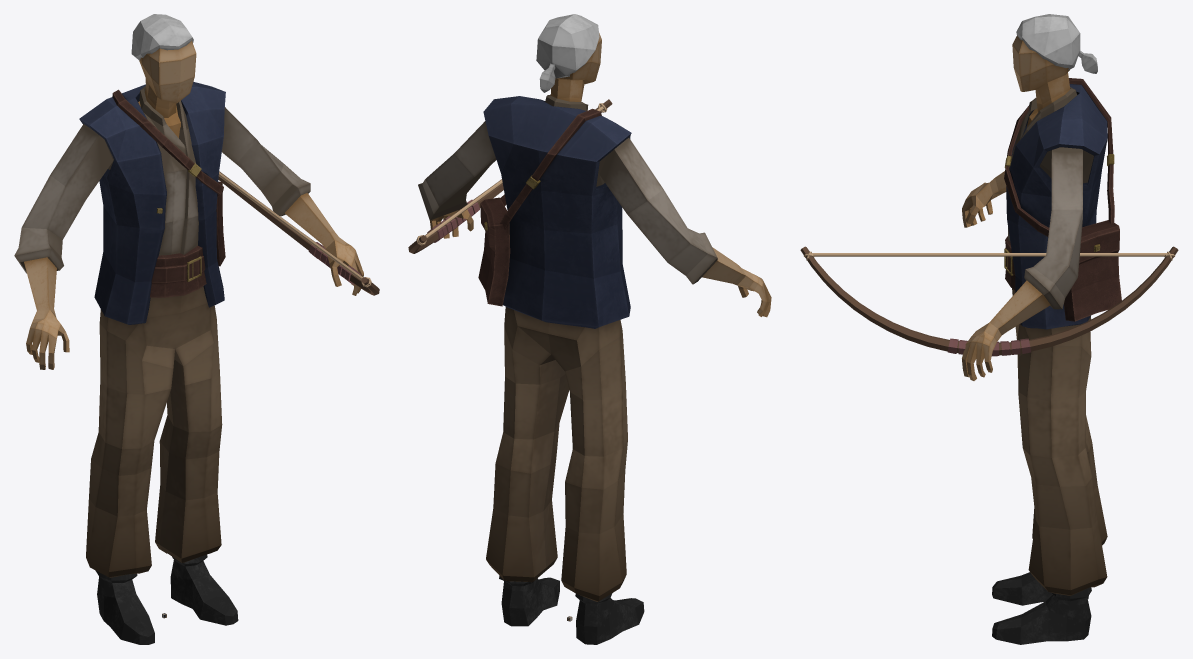
Rendered from player.fbx.
3 renders of one model, left to right at view 1: azimuth 30°, elevation 25°; view 2: azimuth 150°, elevation 25°; view 3: azimuth 270°, elevation 25°, orthographic.
Parts seen in each view (by area): view 1: Rio, Bow; view 2: Rio, Bow; view 3: Rio, Bow.
Part boxes in pixels (x1,y1,x2,y2): Rio: [14, 14, 363, 644]; Bow: [218, 171, 379, 295]; Rio: [418, 14, 771, 644]; Bow: [408, 99, 612, 253]; Rio: [962, 14, 1121, 644]; Bow: [800, 246, 1178, 356].
Size of the model in its own units: 103 by 177 by 101.
